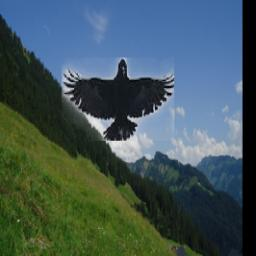Crow: (63, 59, 175, 142)
